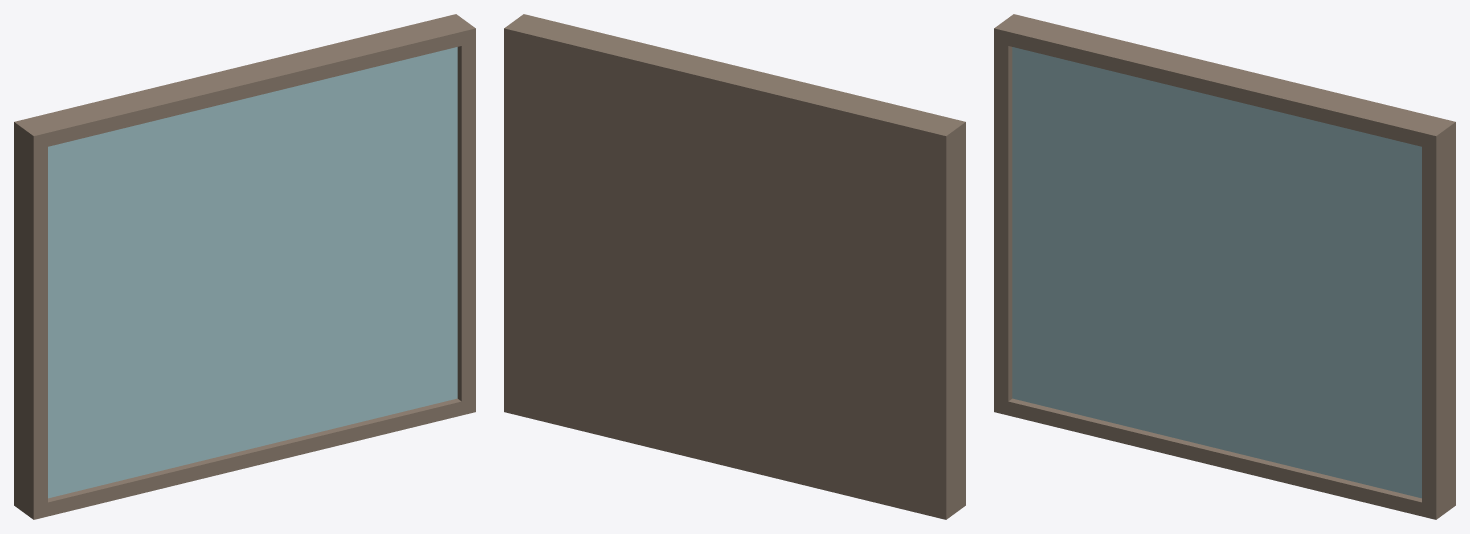
Rendered from Mesh_Bathroom_ShowerMirror_01.obj.
3 renders of one model, left to right at view 1: azimuth 30°, elevation 25°; view 2: azimuth 150°, elevation 25°; view 3: azimuth 330°, elevation 25°, orthographic.
Parts seen in each view (by area): view 1: Mesh_Bathroom_ShowerMirror_01_M_LowPolyInterior_01; view 2: Mesh_Bathroom_ShowerMirror_01_M_LowPolyInterior_01; view 3: Mesh_Bathroom_ShowerMirror_01_M_LowPolyInterior_01.
Part boxes in pixels (x1=…): Mesh_Bathroom_ShowerMirror_01_M_LowPolyInterior_01: x1=14, y1=14, x2=475, y2=519; Mesh_Bathroom_ShowerMirror_01_M_LowPolyInterior_01: x1=504, y1=14, x2=965, y2=519; Mesh_Bathroom_ShowerMirror_01_M_LowPolyInterior_01: x1=994, y1=14, x2=1455, y2=519.
Bounding box in the file's own units: 1.11 × 0.9181 × 0.0852.
Materials: 1 (1 with a texture image).
